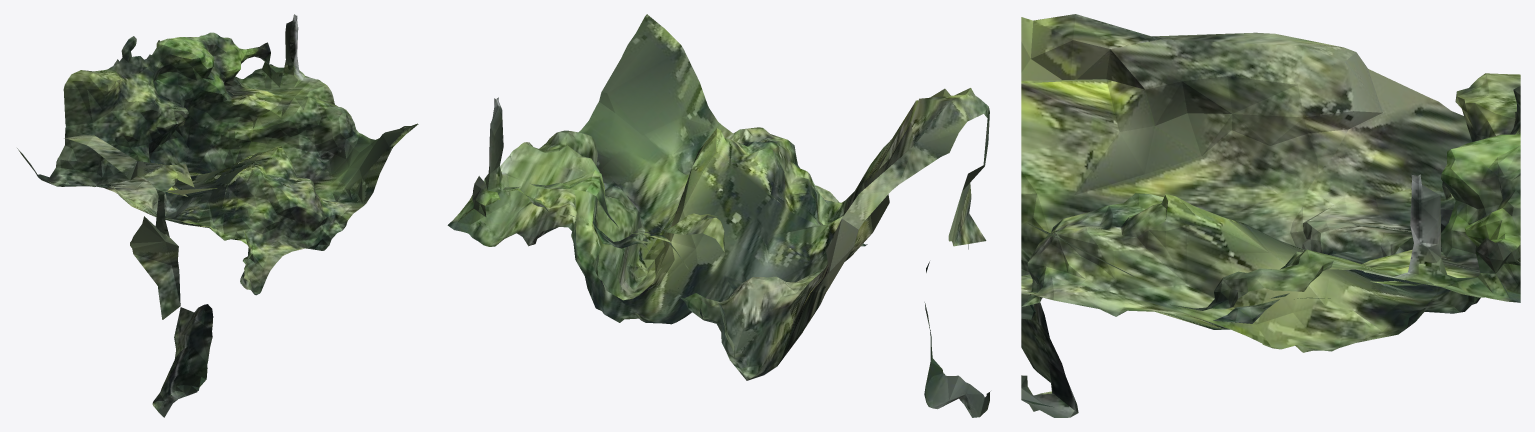
3 renders of one model, left to right at view 1: azimuth 30°, elevation 25°; view 2: azimuth 150°, elevation 25°; view 3: azimuth 270°, elevation 25°, orthographic. The views are drawn at different scales.
Size of the model in its own units: 26.11 by 25.32 by 26.11.
Materials: 4 (4 with a texture image).
